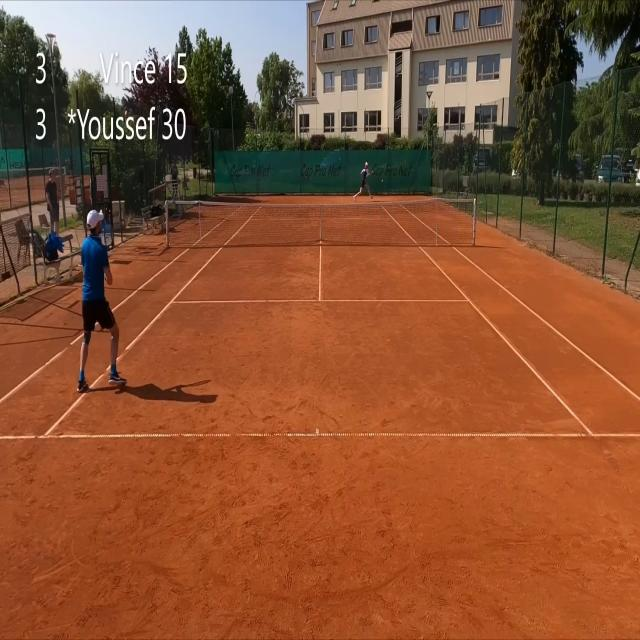ball: (381, 180, 383, 182)
